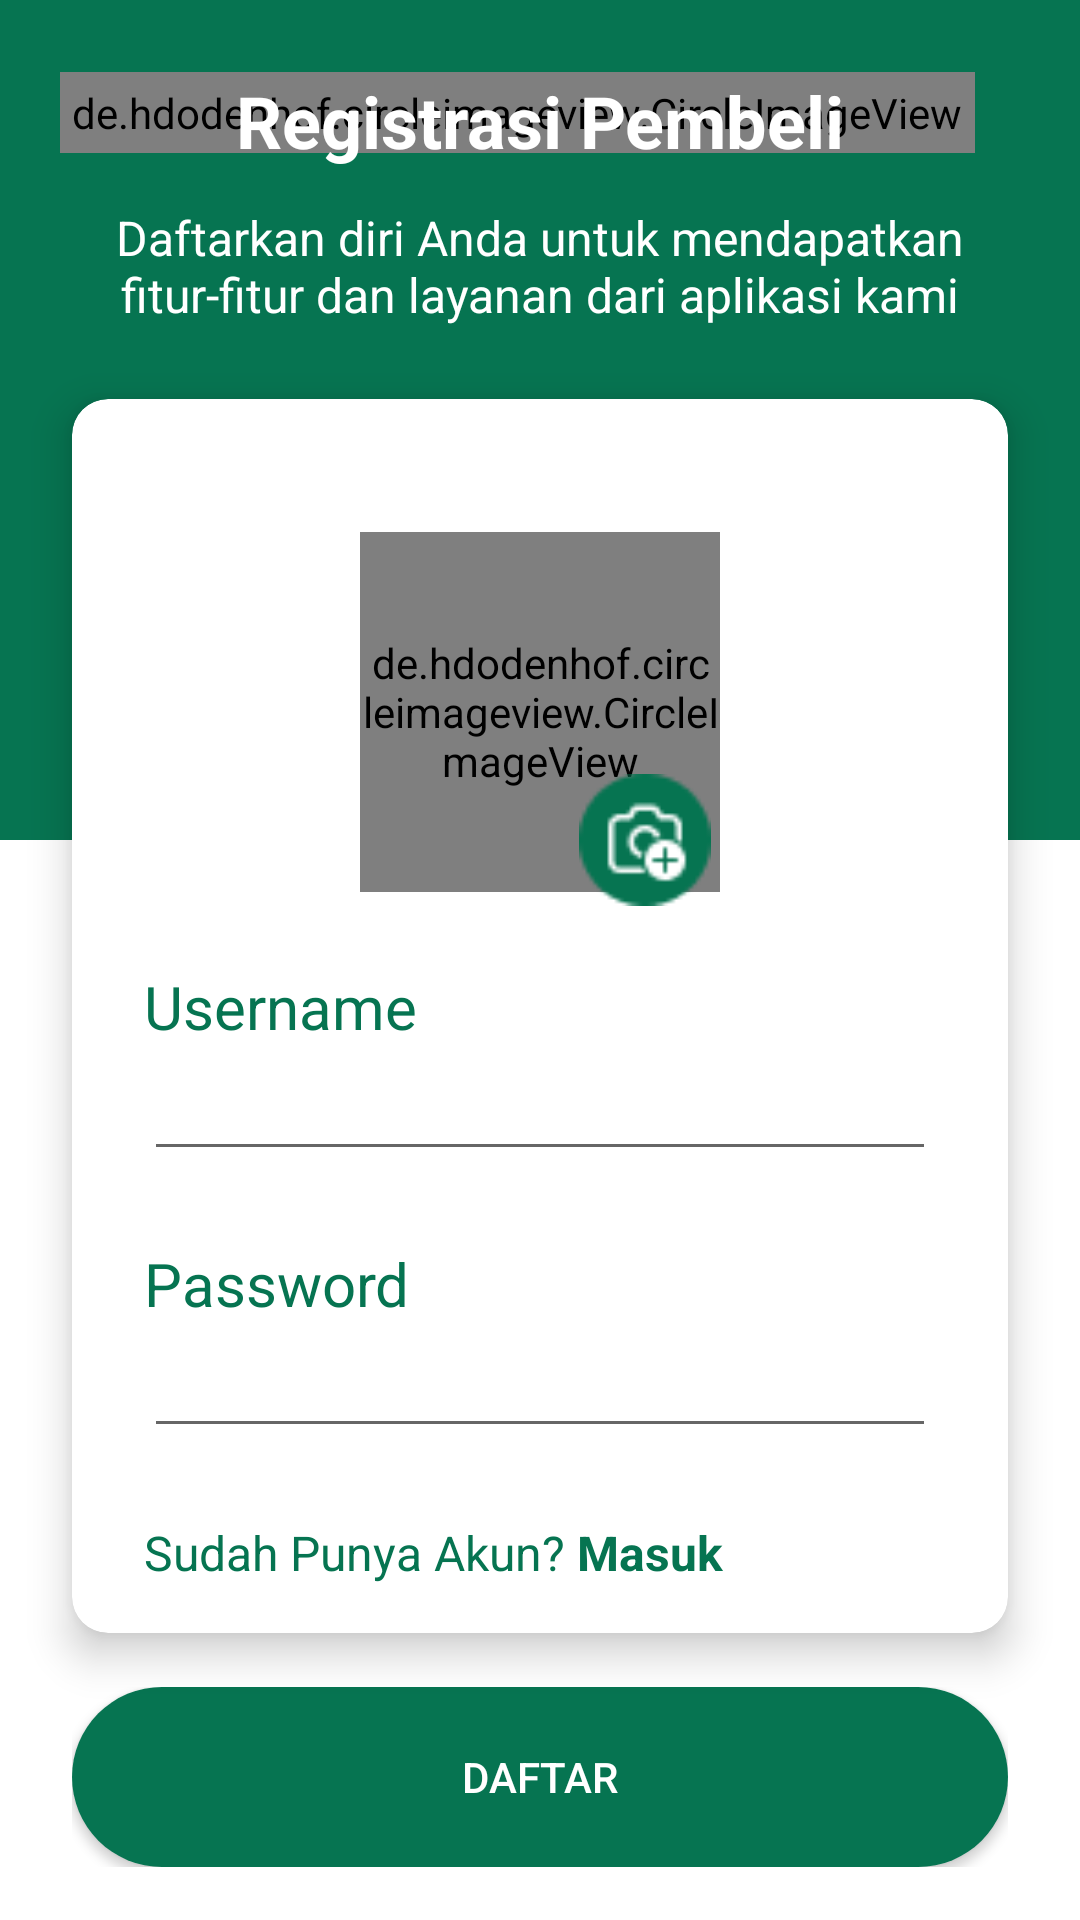

Named icons in this screenshot (1080×1920) and their bounding boxes, region(x1, y1, x2, y2):
cam: region(579, 774, 711, 906)
